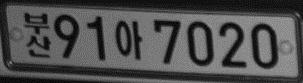0: (249, 21, 279, 69), (185, 20, 215, 67)
1: (84, 15, 112, 62)
2: (218, 21, 246, 68)
7: (152, 18, 181, 64)
9: (53, 14, 80, 58)
부산_V: (23, 12, 51, 58)
아: (115, 19, 144, 60)
